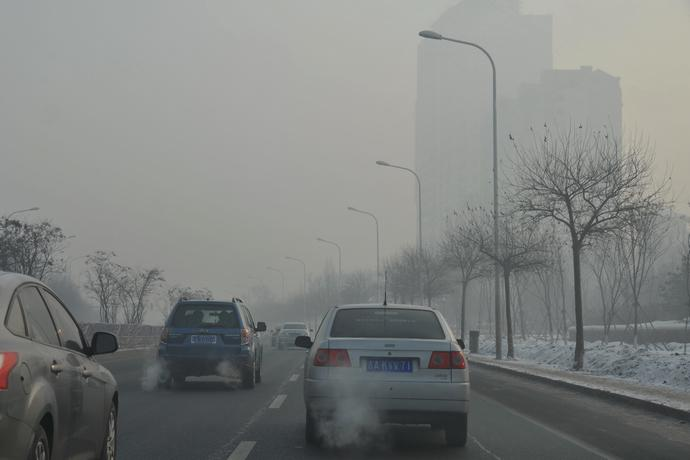car: (296, 270, 470, 447), (1, 268, 119, 460), (157, 296, 267, 389), (276, 322, 314, 350), (270, 327, 293, 347)
